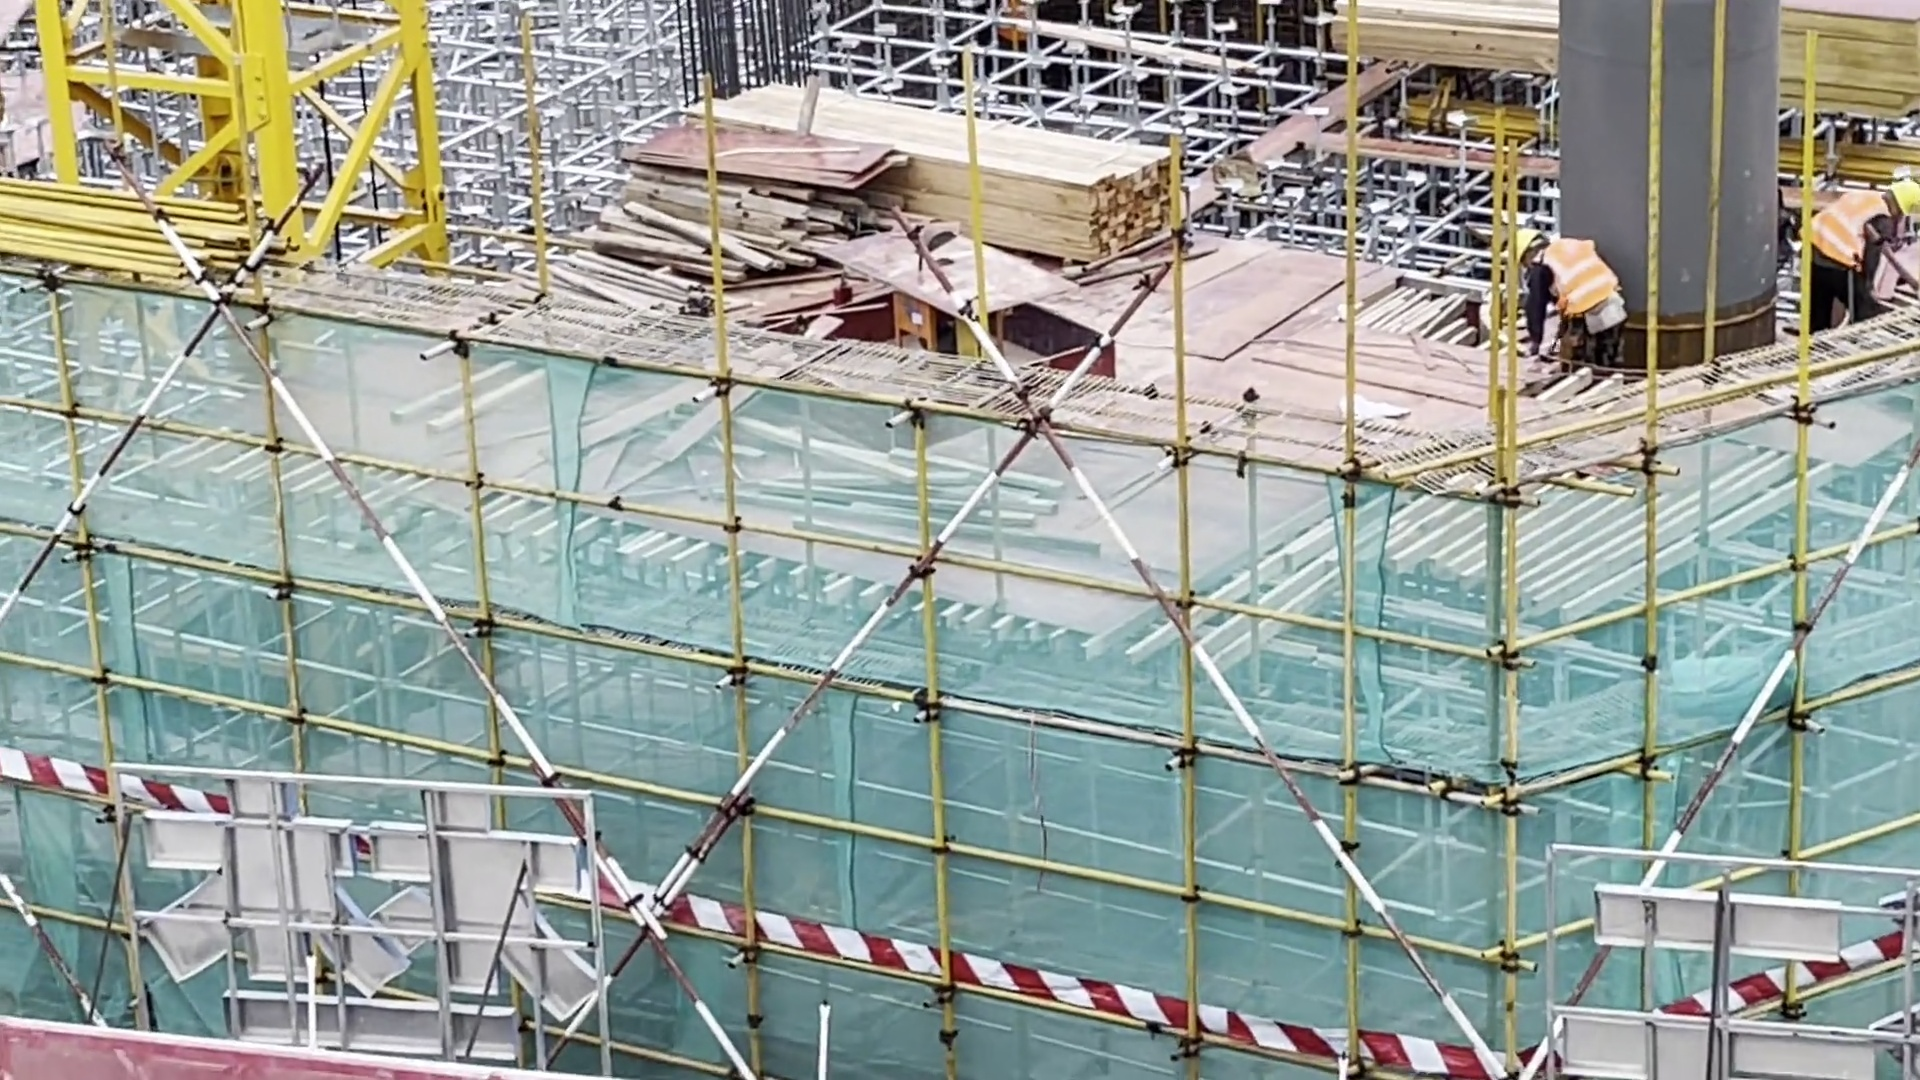helmet: (1876, 168, 1920, 219), (1498, 223, 1542, 253)
person: (1799, 170, 1908, 366), (1515, 220, 1633, 380)
vest: (1815, 189, 1886, 267), (1534, 235, 1608, 307)
